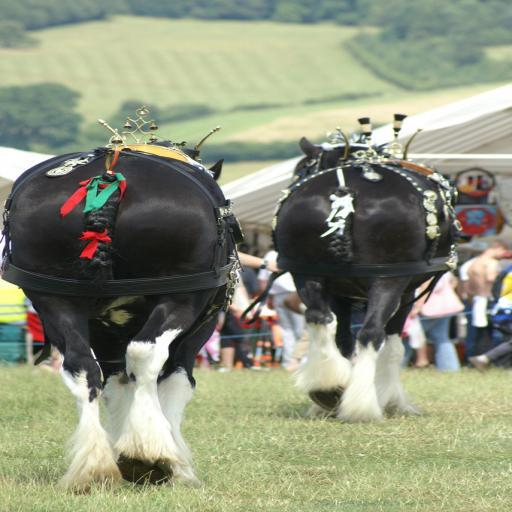Horse: (0, 105, 245, 492), (251, 114, 470, 429)
